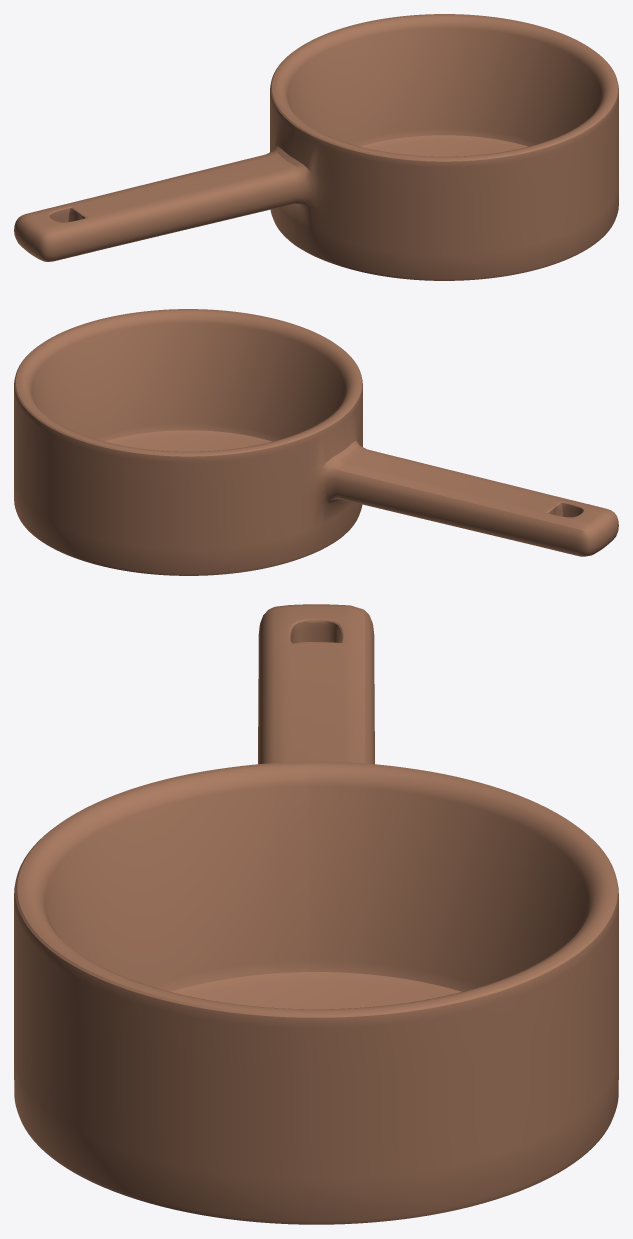
Rendered from ollaGrande2.fbx.
3 views of the same model, one above another, from view 1: azimuth 30°, elevation 25°; view 2: azimuth 150°, elevation 25°; view 3: azimuth 270°, elevation 25° (orthographic). The views are drawn at different scales.
Parts seen in each view (by area): view 1: ollaGrande2; view 2: ollaGrande2; view 3: ollaGrande2.
Boxes of the visible parts, bbox=[...] form: ollaGrande2: bbox=[14, 14, 618, 280]; ollaGrande2: bbox=[14, 309, 618, 575]; ollaGrande2: bbox=[14, 604, 618, 1224].
Size of the model in its own units: 65.1 by 13.32 by 34.46.
